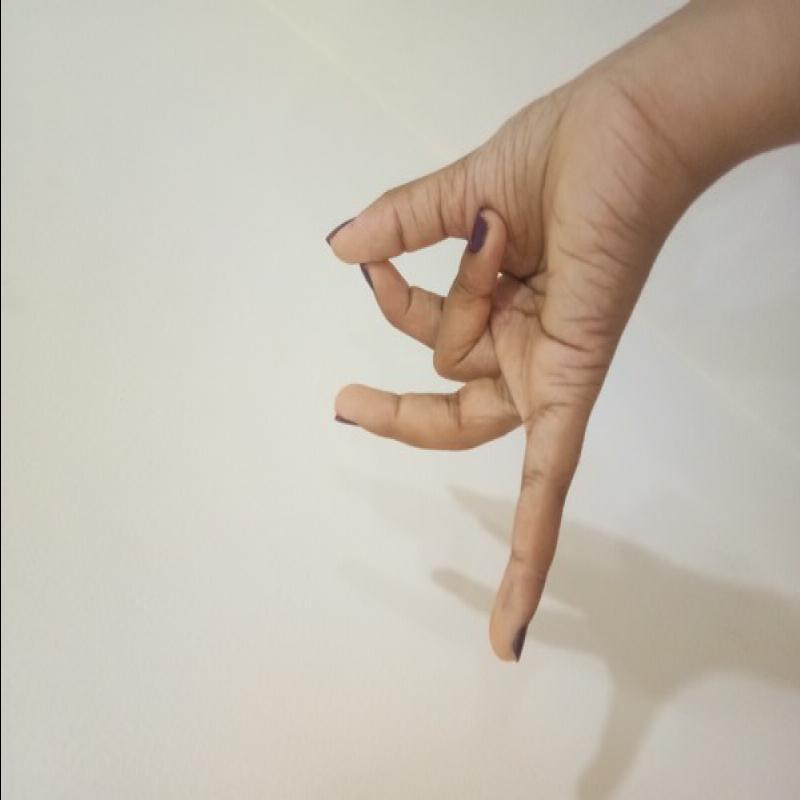Katakam: (312, 59, 688, 666)
